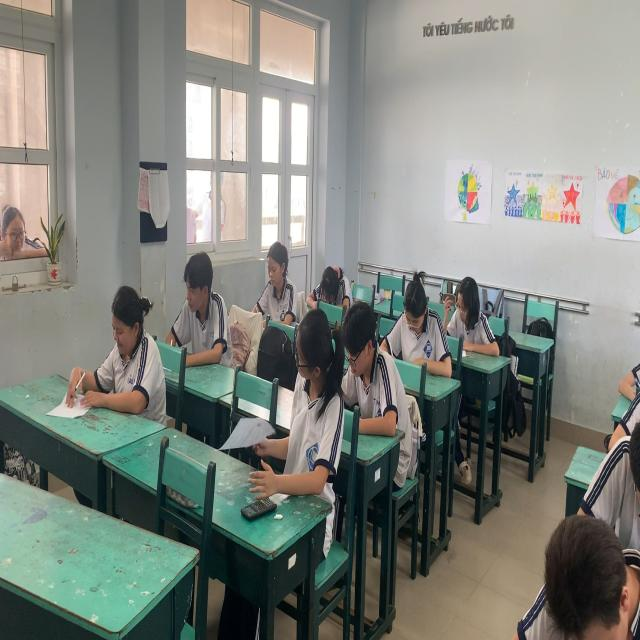cheating: (284, 313, 340, 500)
not_cheating: (535, 497, 640, 640), (88, 276, 159, 422), (339, 299, 402, 442), (170, 256, 232, 367), (395, 264, 439, 376), (255, 234, 294, 329), (450, 268, 490, 360), (314, 249, 346, 311)
